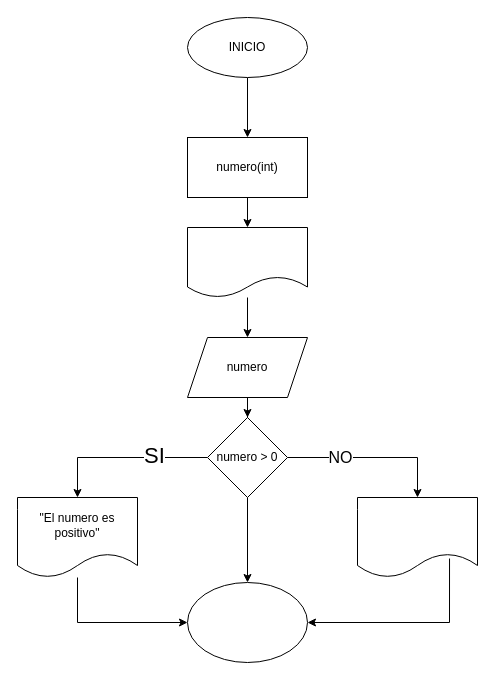
The diagram is 495 pixels wide and 680 high, and some of its shapes have lost their labels. Here are the shapes that lost their labels. From the top down, the centre of each, then its label:
(247,262): "Ingresa un numero"
(417,537): "El número es negativo"
(247,622): FIN
